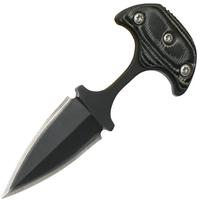knife: (2, 9, 187, 200)
